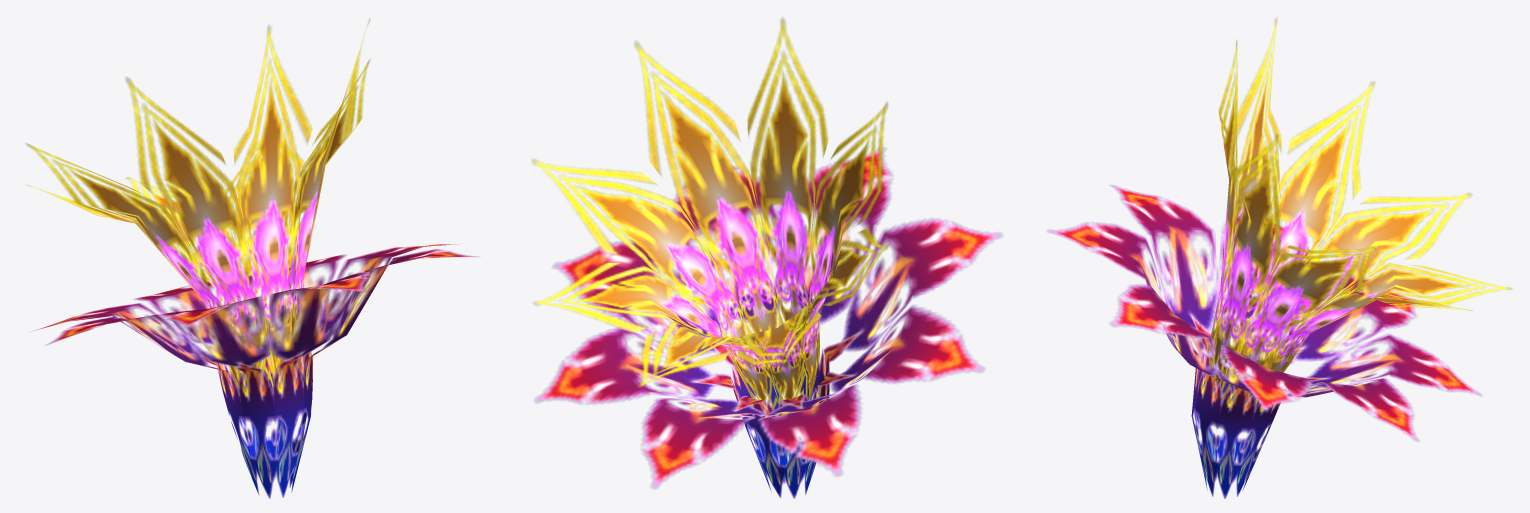
File: Plant_leaf_02.glb
3 views of the same model, side by side, from view 1: azimuth 30°, elevation 25°; view 2: azimuth 150°, elevation 25°; view 3: azimuth 270°, elevation 25° (orthographic). The views are drawn at different scales.
Visible parts, largest first — view 1: Plant_02; view 2: Plant_02; view 3: Plant_02.
Boxes of the visible parts, x1=… form: Plant_02: x1=26, y1=18, x2=478, y2=498; Plant_02: x1=532, y1=18, x2=1002, y2=498; Plant_02: x1=1047, y1=18, x2=1511, y2=498.
Size of what is drawn, in the model's own units: 1.69 by 1.77 by 1.66.
1 material, 1 textured.
